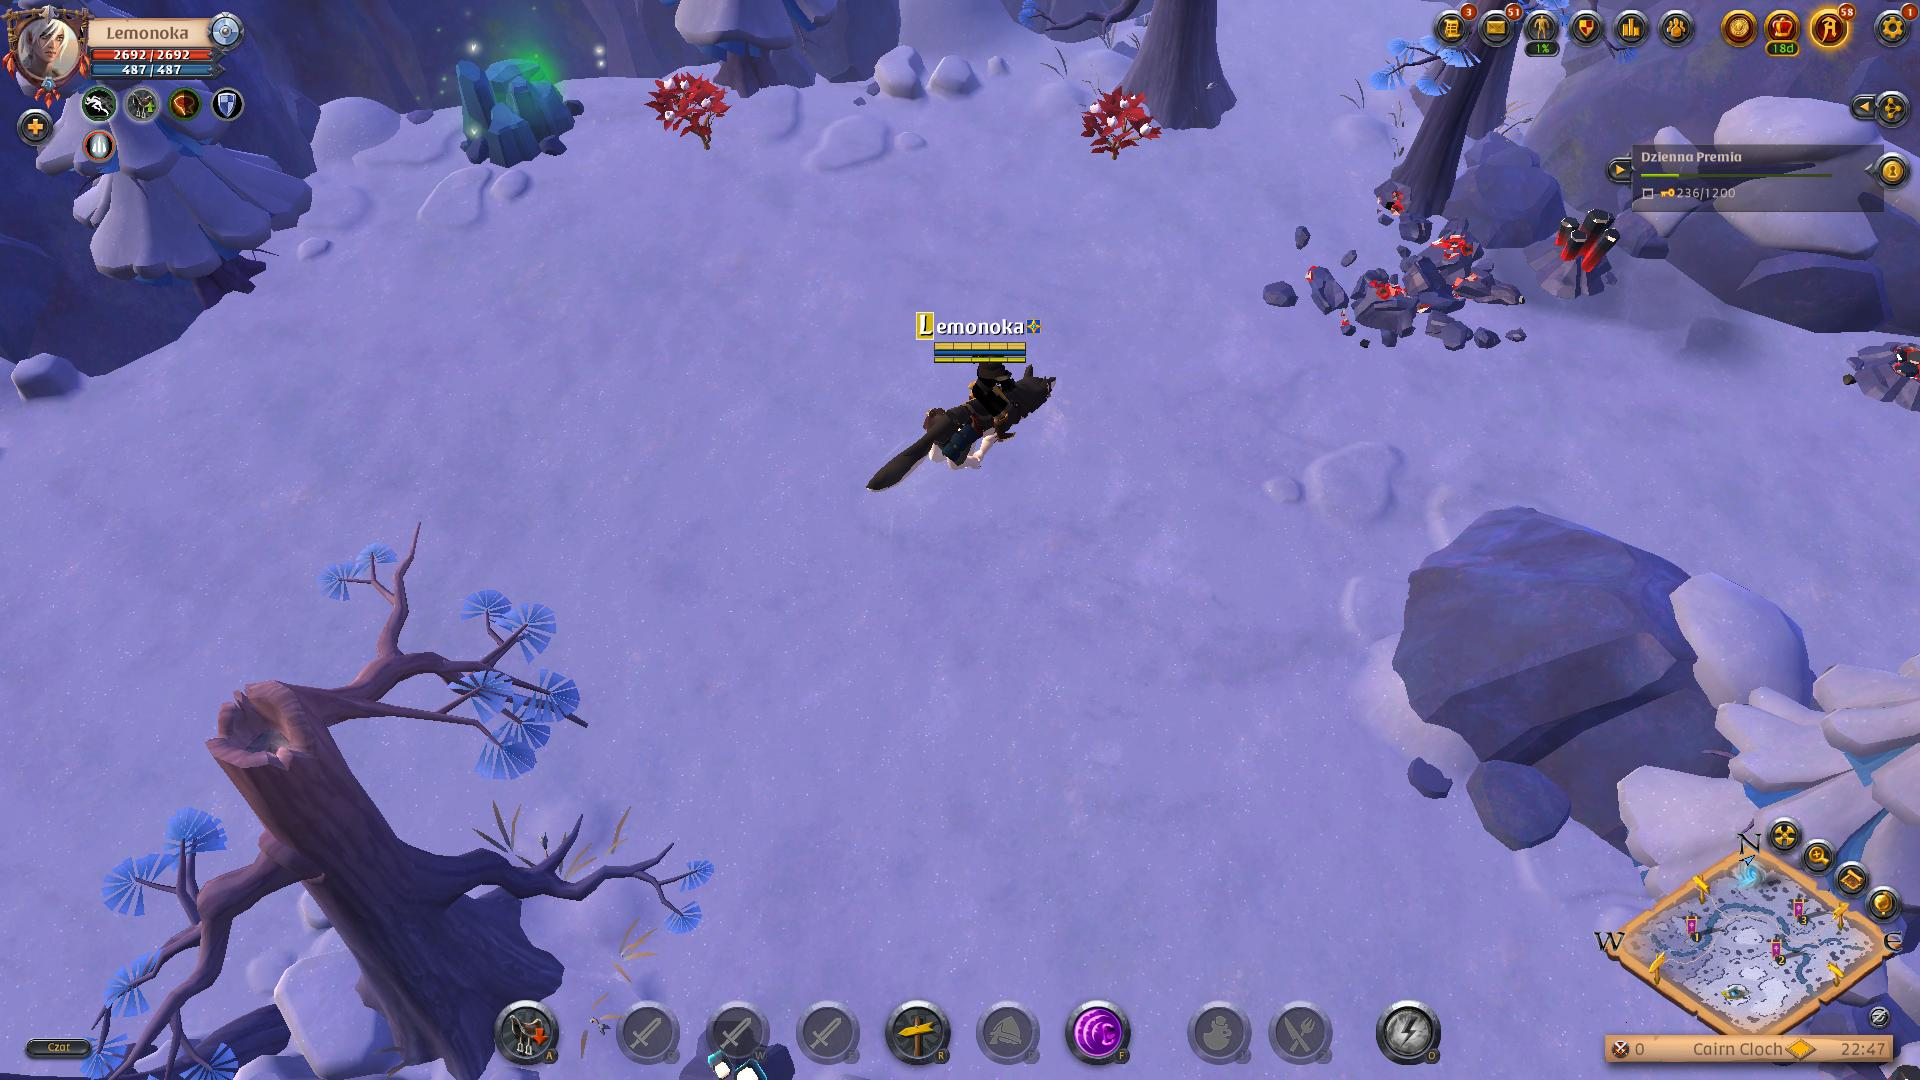fiber tier 5: (651, 63, 728, 153), (1085, 86, 1154, 160)
ore tier 5: (1516, 206, 1625, 319)
rock tier 4: (447, 57, 582, 166)
